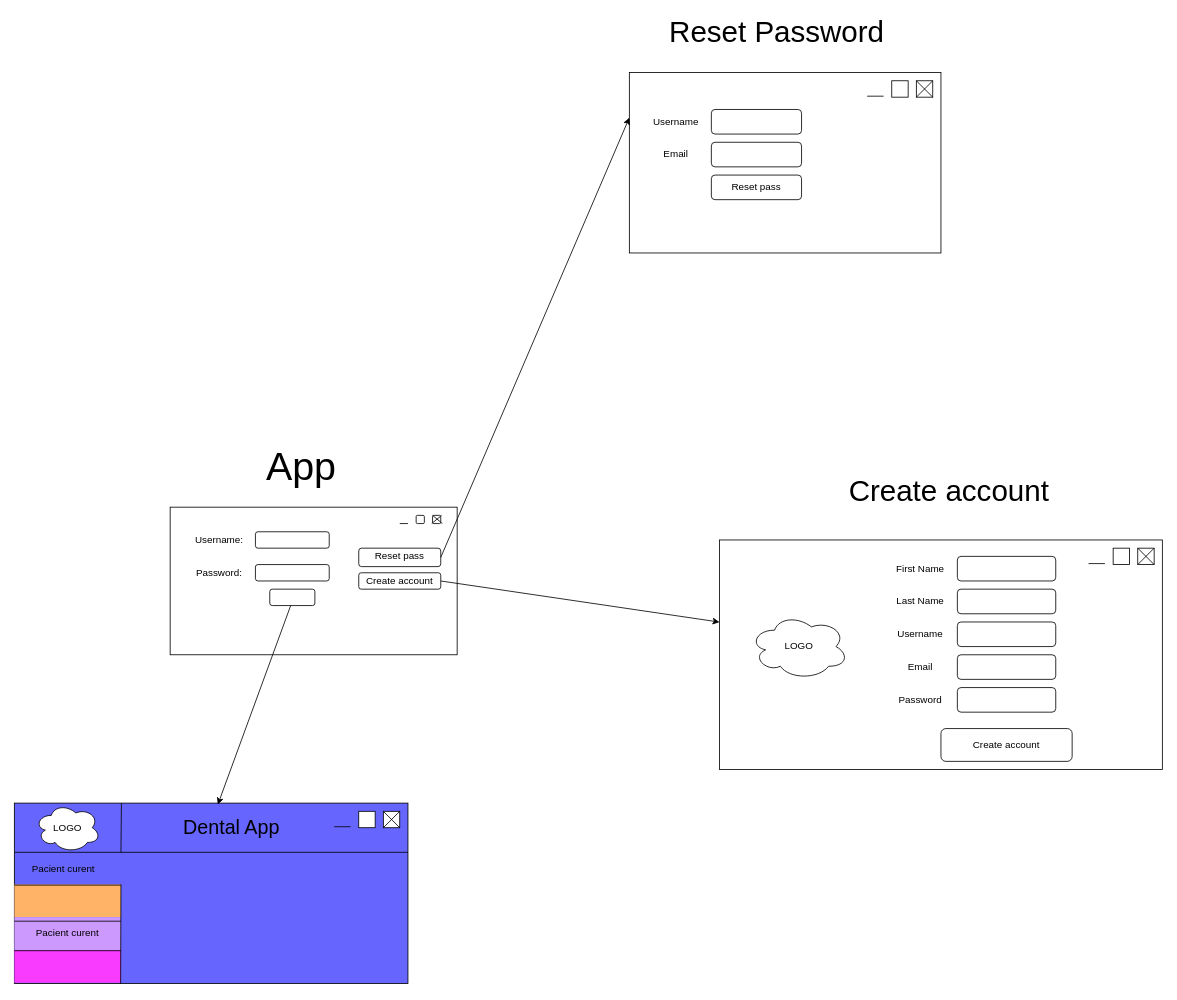
Image size: 1177x1000. Some labels were removed from this diagram. The centre of each missing label's shape, as x and y in pixels:
"Log in" belongs at [292,597].
"Log out" belongs at [67,966].
"Programari viitoare" belongs at [67,900].
